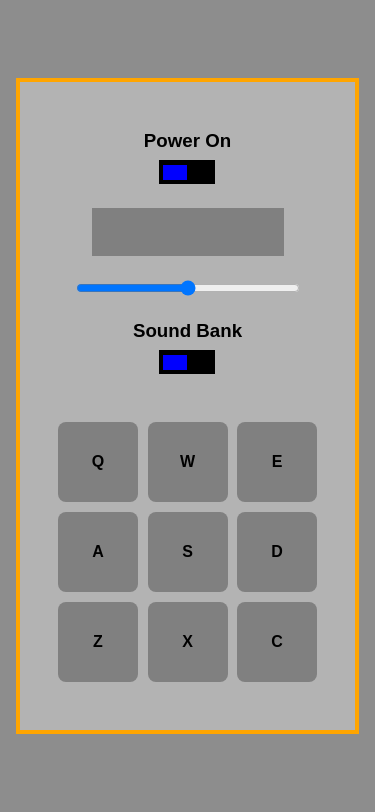
Test case: Drum Machine › Drum pad buttons should be disabled when power is off
Click the checkbox below "Power On".
click(188, 172)  # box [160, 160, 216, 184]
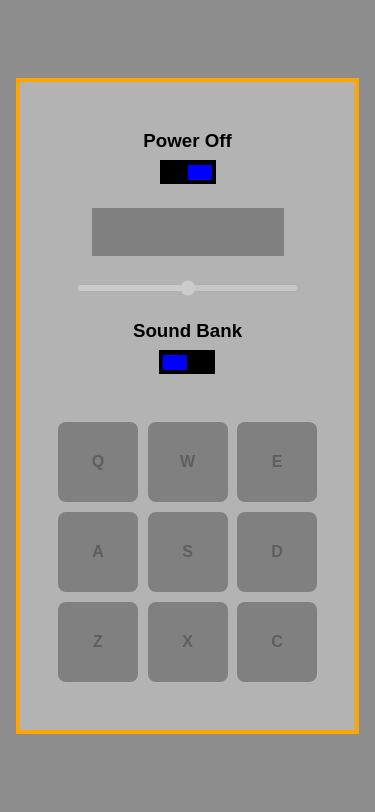
Expected: the button with class "drum-pad" showing "Q" is disabled, [58, 422, 138, 502]
